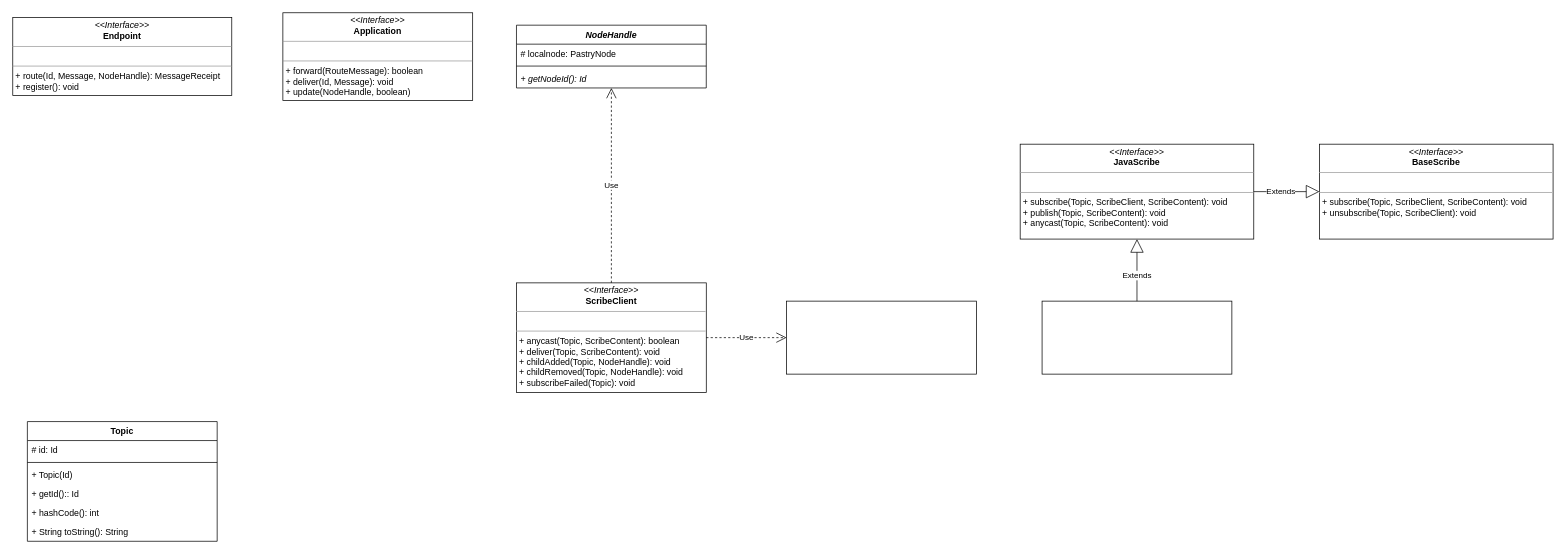
This 1566x556 diagram has some shape labels left out. Here are the shapes that lost their labels. From the top down, the centre of each, then its label:
At point 881,337: "<<Interface>> ScribeContent".
At point 1136,337: "<<Interface>> Scribe".
